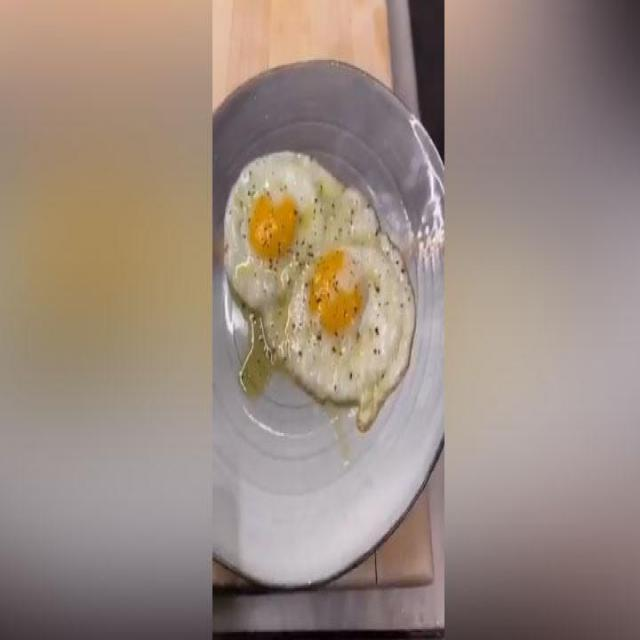Fried Egg: (224, 154, 416, 411)
